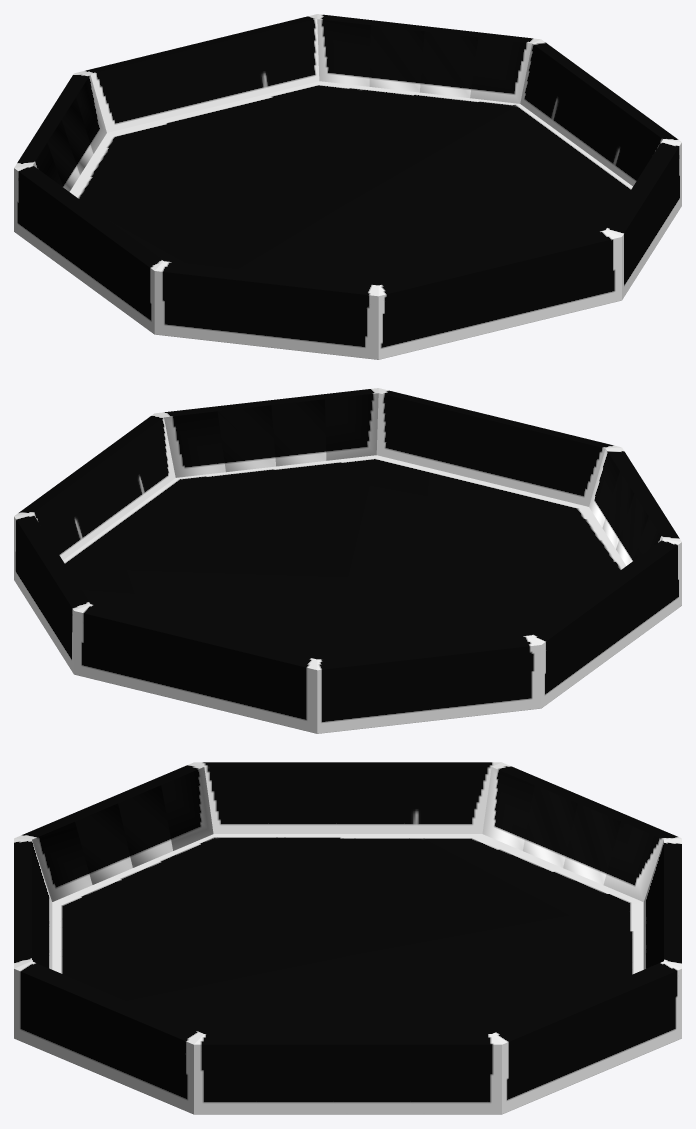
Rendered from floor_0.obj.
The picture shows the model from 3 angles, top to bottom: view 1: azimuth 30°, elevation 25°; view 2: azimuth 150°, elevation 25°; view 3: azimuth 270°, elevation 25°; orthographic projection. The views are drawn at different scales.
Visible parts, largest first — view 1: floor.000; view 2: floor.000; view 3: floor.000.
Part boxes in pixels (x1,y1,x2,y2): floor.000: (14,14,681,359); floor.000: (14,388,681,733); floor.000: (14,762,681,1114).
Size of the model in its own units: 32.5 by 3.92 by 32.5.
